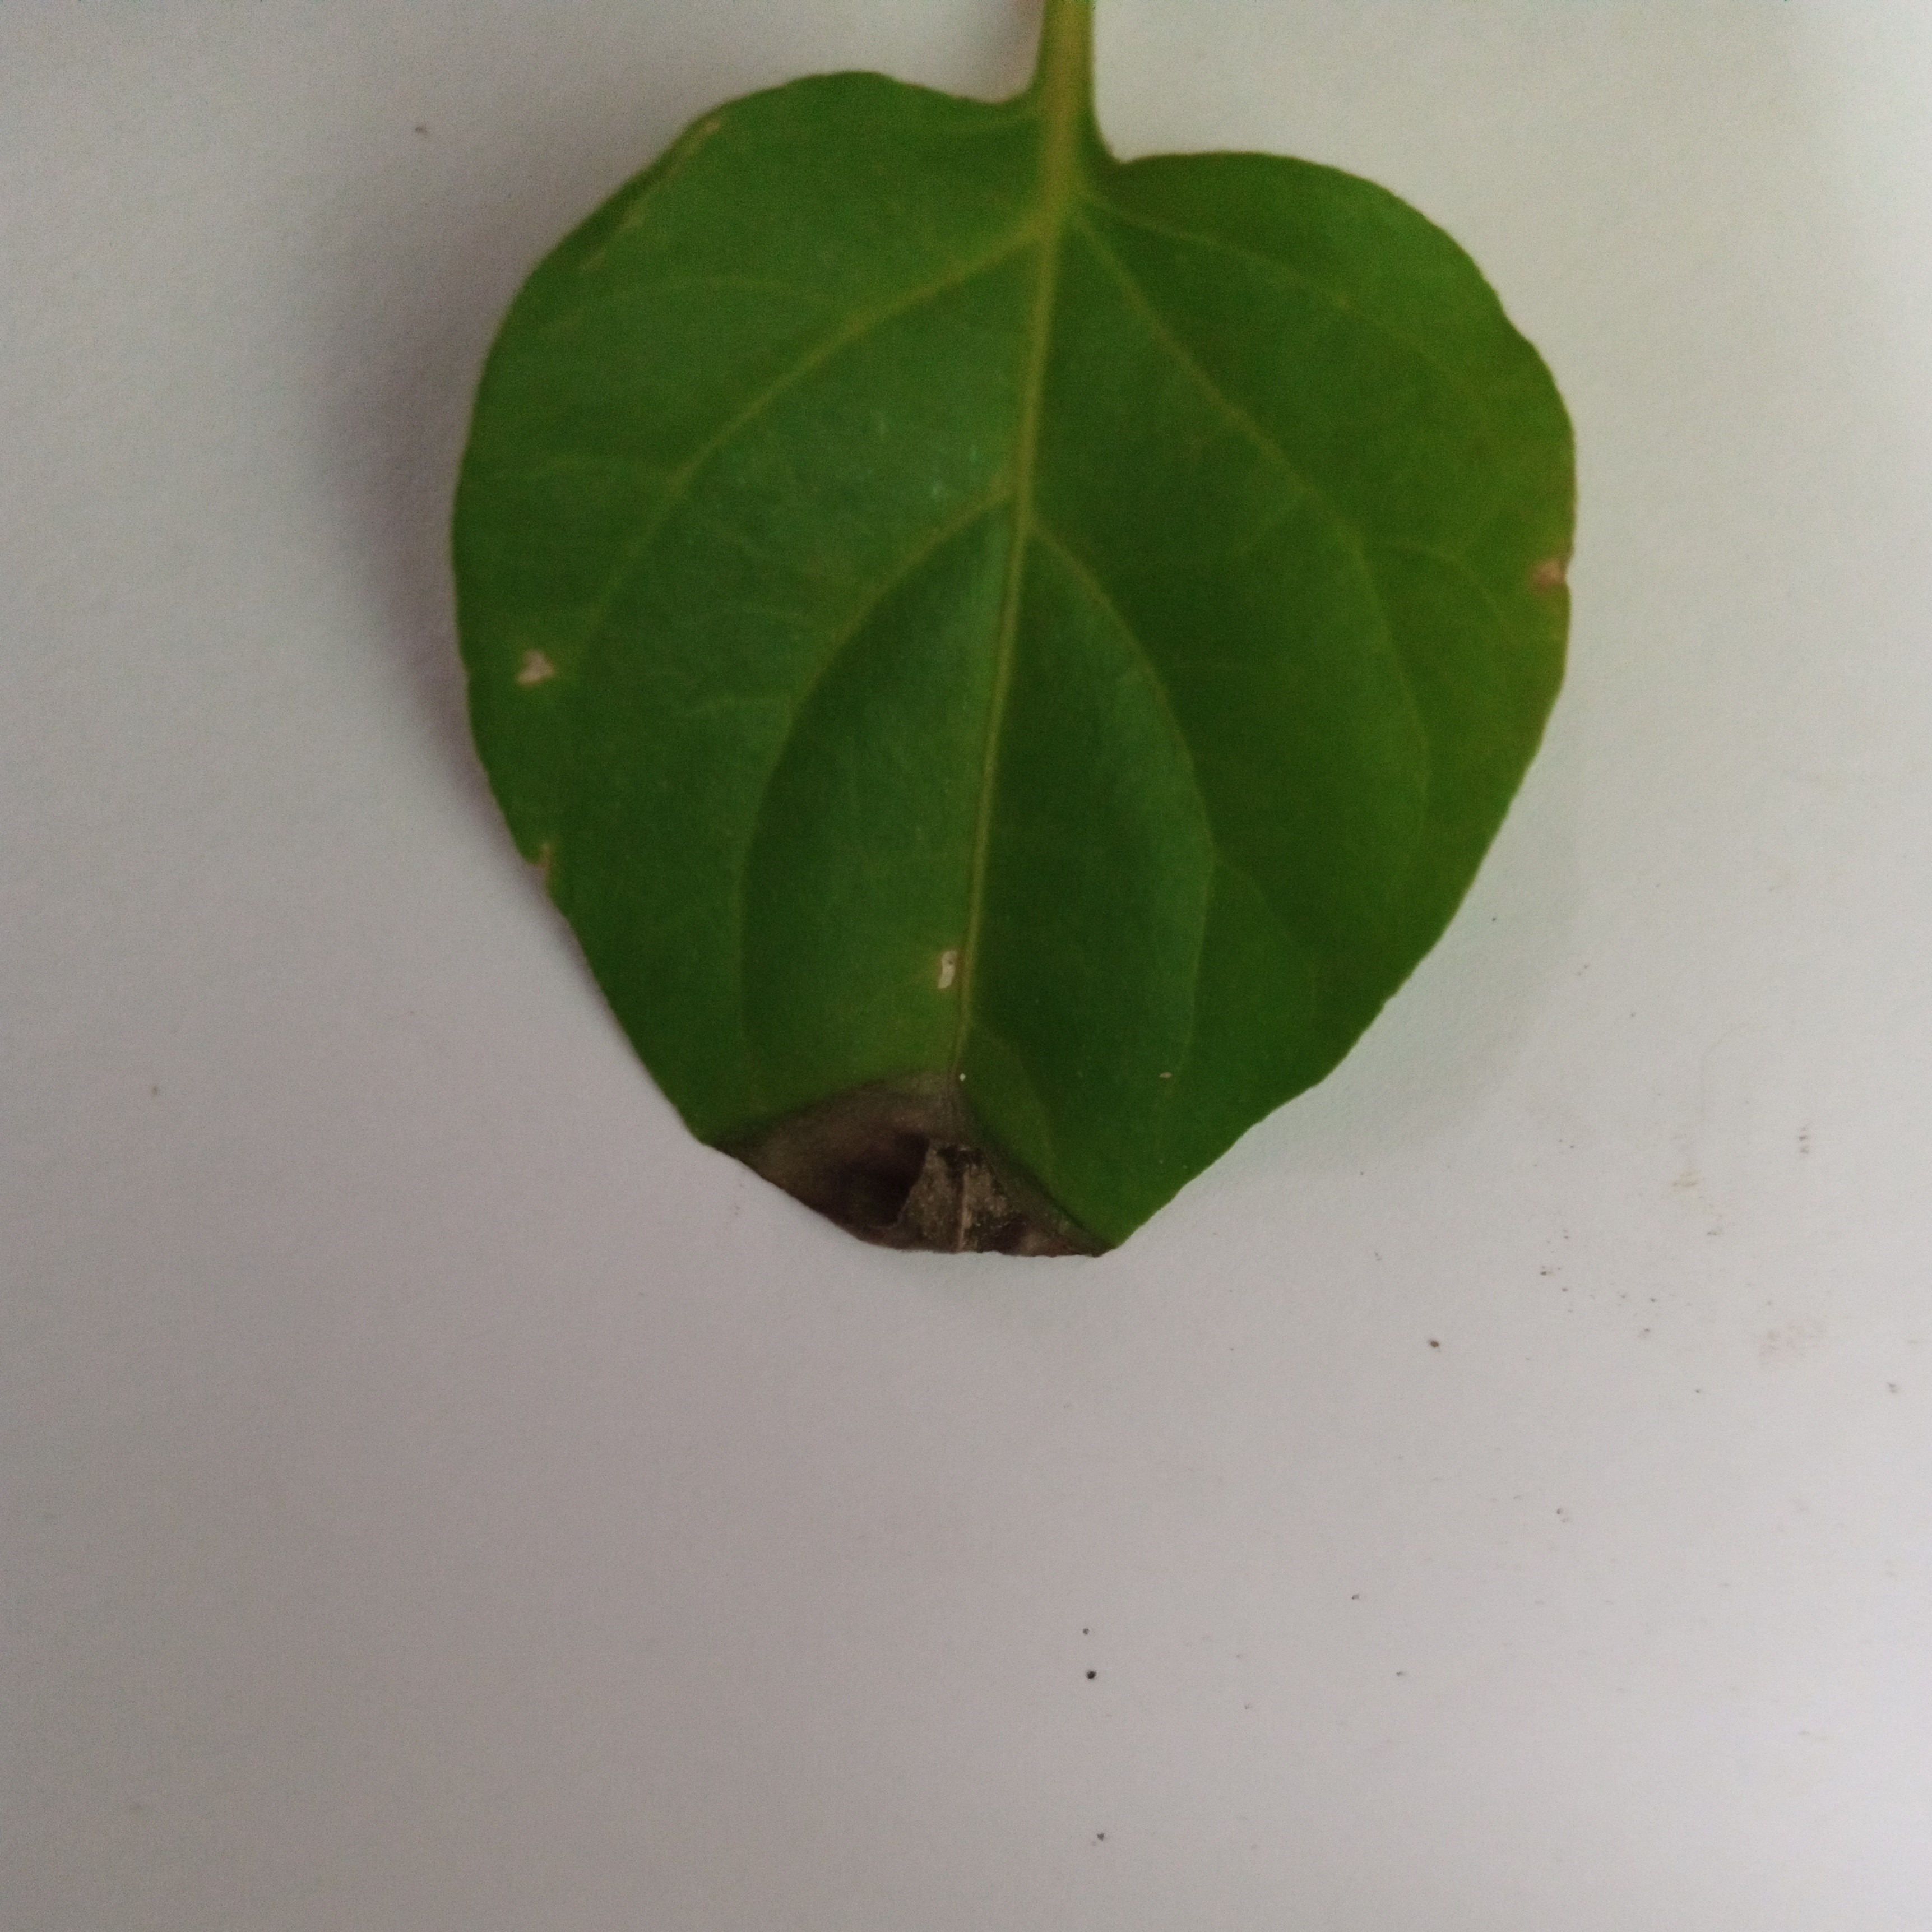Leaf: (379, 46, 1732, 1582)
